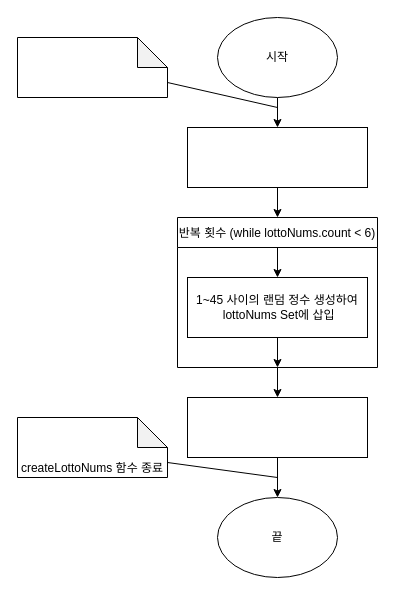
This 395x595 diagram has some shape labels left out. The shapes that lost their labels are listed below. From the top down, each one's centre as x and y in pixels, then its label:
(x=92, y=67): createLottoNums 함수 시작
(x=277, y=157): lottoNums: Int형 Set 생성
(x=277, y=427): lottoNums 반환
